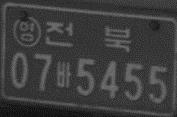0: (10, 52, 29, 90)
4: (99, 59, 119, 98)
5: (147, 64, 168, 105), (75, 57, 95, 96), (123, 62, 143, 101)
7: (33, 53, 52, 91)
바: (56, 61, 72, 89)
영: (12, 16, 41, 48)
전북_D: (44, 20, 131, 53)
